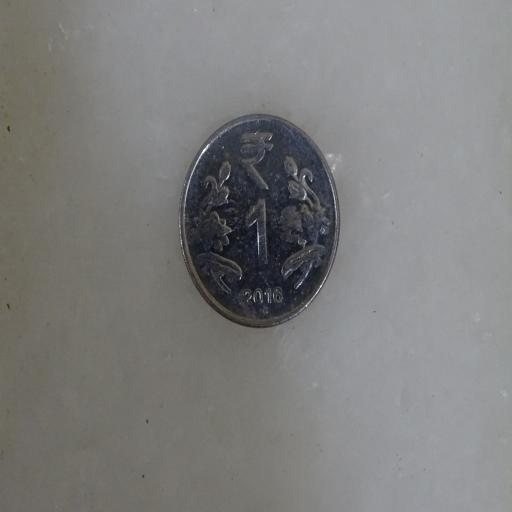rupee1: (176, 112, 343, 330)
